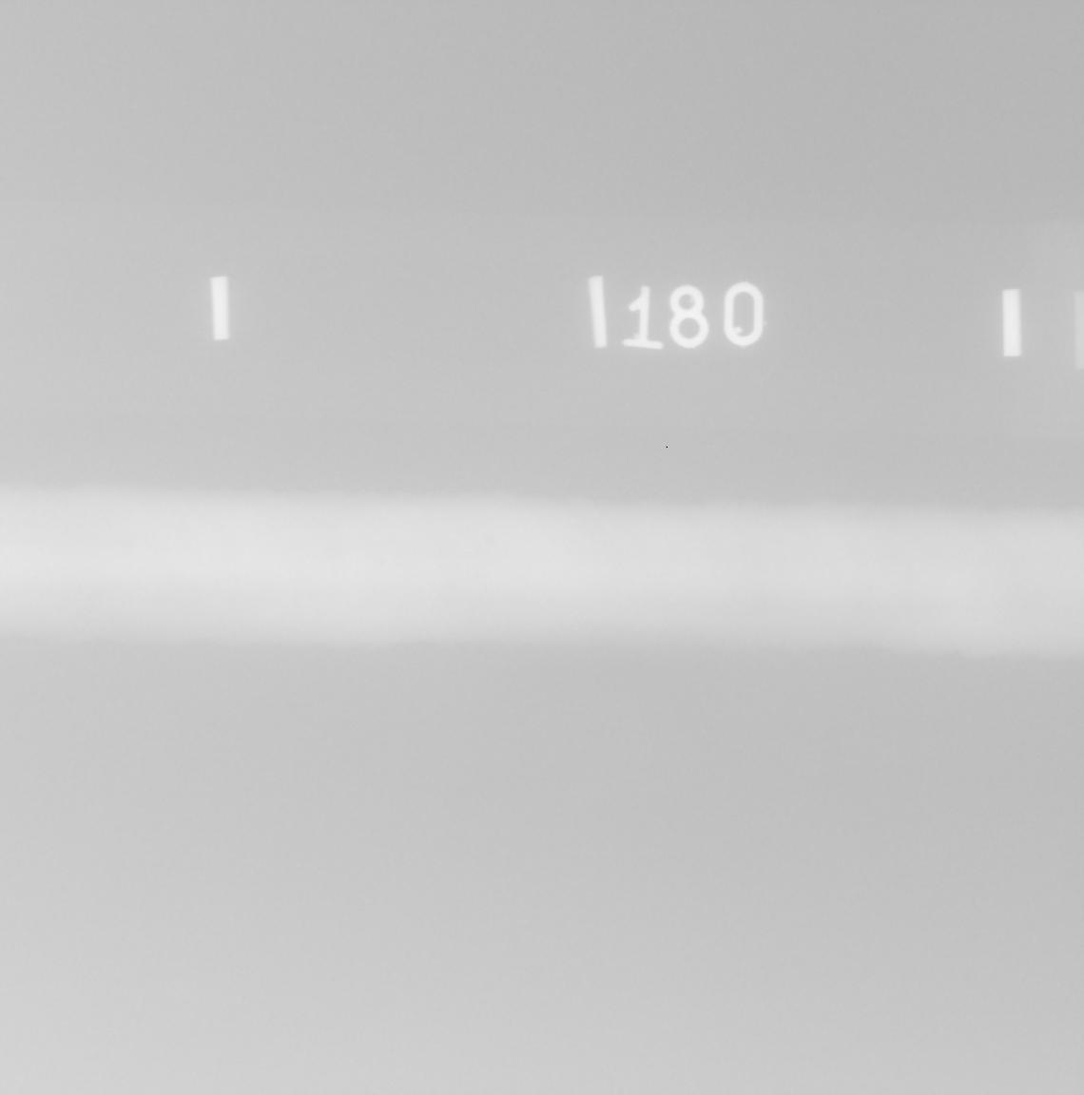Pore/Porosity: (485, 536, 493, 544), (379, 560, 386, 567)
